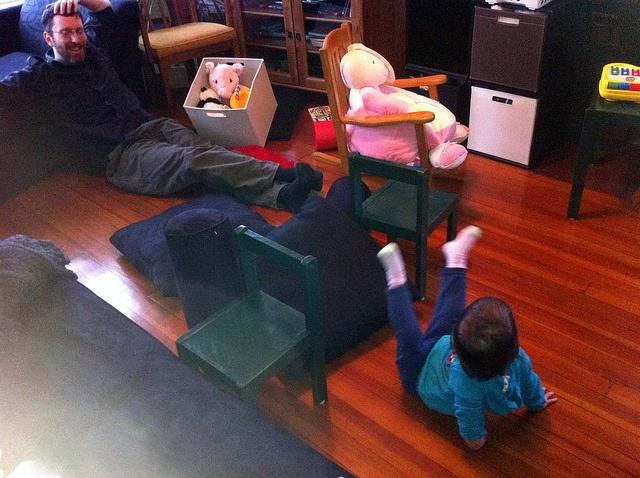Kursi: (172, 222, 328, 410), (347, 151, 459, 300)
